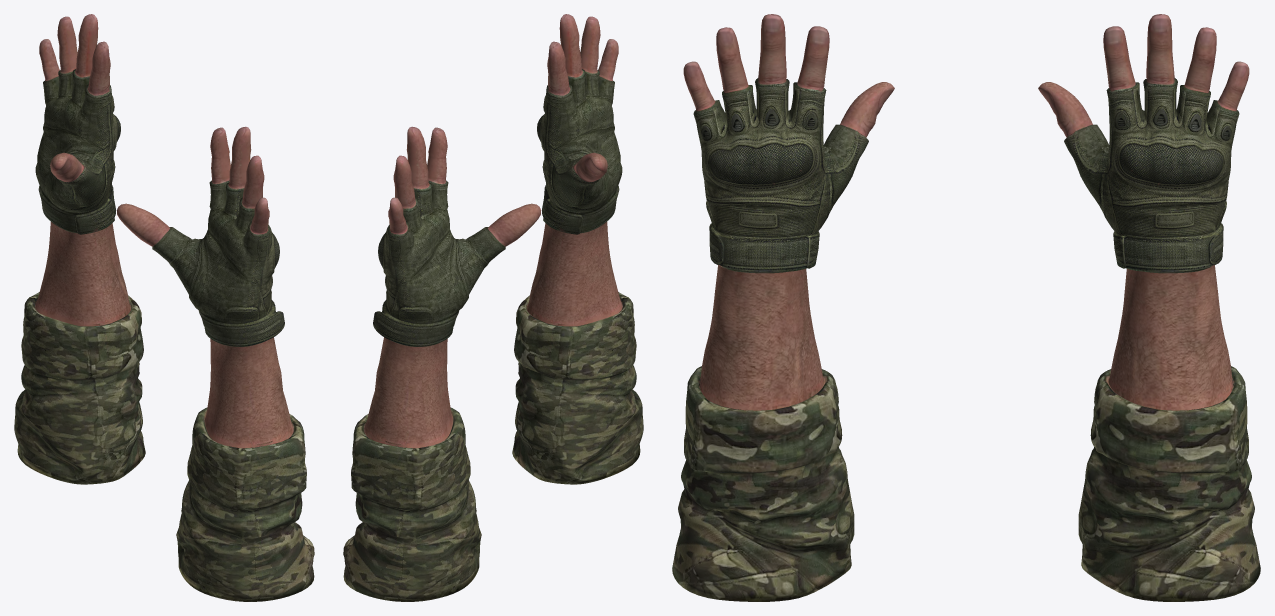
File: fp-arms.glb
3 views of the same model, side by side, from view 1: azimuth 30°, elevation 25°; view 2: azimuth 150°, elevation 25°; view 3: azimuth 270°, elevation 25° (orthographic). The views are drawn at different scales.
Visible parts, largest first — view 1: low; view 2: low; view 3: low.
Boxes of the visible parts, x1=… form: low: x1=14, y1=14, x2=314, y2=601; low: x1=343, y1=14, x2=643, y2=601; low: x1=672, y1=14, x2=1260, y2=601.
Bounding box in the file's own units: 0.3149 × 0.9995 × 0.9584.
1 material, 1 textured.
